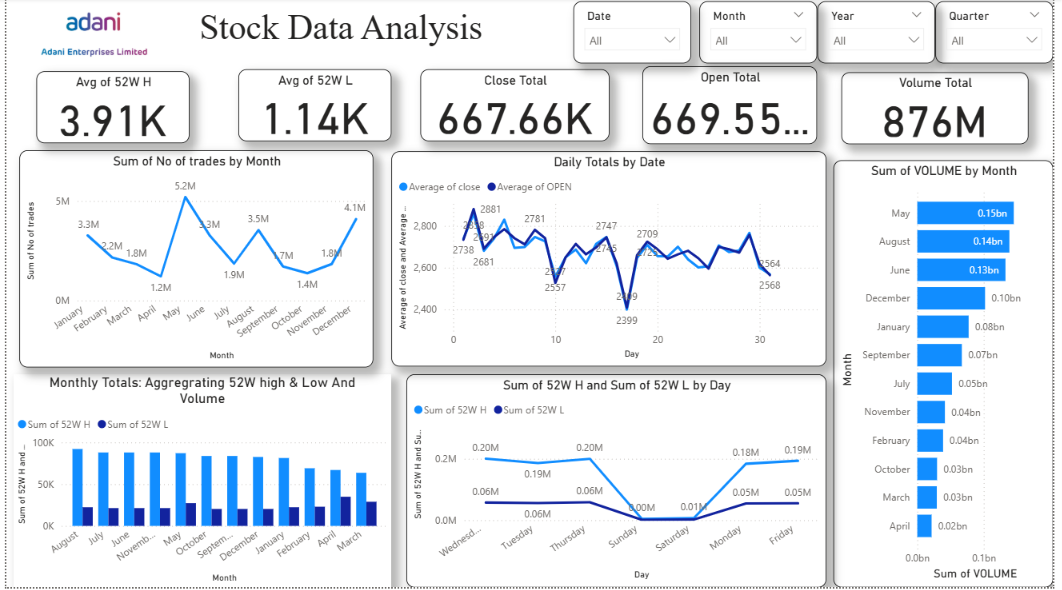

What the dashboard file says about the page in this screenshot:
{"tool":"powerbi","page":{"name":"Page 1","canvas":[1280,720],"ordinal":0},"visuals":[{"type":"slicer","fields":{"Values":["ADANI ENTERPRISES LIMITED.Date "]},"box":[693.3,3.7,144.3,75.8],"z":0},{"type":"slicer","fields":{"Values":["ADANI ENTERPRISES LIMITED.Month"]},"box":[847.4,3.7,144.3,75.8],"z":1000},{"type":"slicer","fields":{"Values":["ADANI ENTERPRISES LIMITED.Year"]},"box":[991.7,3.7,144.3,75.8],"z":2000},{"type":"slicer","fields":{"Values":["ADANI ENTERPRISES LIMITED.Quarter"]},"box":[1136,3.7,144.3,75.8],"z":3000},{"type":"card","title":"Avg of 52W H","fields":{"Values":["Avg(ADANI ENTERPRISES LIMITED.52W H )"]},"box":[36.7,89.3,187.1,88],"z":4000},{"type":"card","title":"Avg of 52W L","fields":{"Values":["Avg(ADANI ENTERPRISES LIMITED.52W L )"]},"box":[283.7,86.8,187.1,88],"z":5000},{"type":"card","title":"Close Total","fields":{"Values":["Sum(ADANI ENTERPRISES LIMITED.close )"]},"box":[506.3,86.8,231.1,88],"z":6000},{"type":"card","title":"Open Total","fields":{"Values":["Sum(ADANI ENTERPRISES LIMITED.OPEN )"]},"box":[777.7,83.2,214,95.4],"z":7000},{"type":"card","title":"Volume Total","fields":{"Values":["Sum(ADANI ENTERPRISES LIMITED.VOLUME )"]},"box":[1021.1,90.5,228.7,88],"z":8000},{"type":"clusteredColumnChart","title":"Monthly Totals: Aggregrating 52W high & Low And Volume","fields":{"Y":["Sum(ADANI ENTERPRISES LIMITED.52W H )","Sum(ADANI ENTERPRISES LIMITED.52W L )"],"Category":["ADANI ENTERPRISES LIMITED.Month"]},"box":[8.6,459.8,462.2,260.5],"z":10000},{"type":"lineChart","title":"Daily Totals by Date","fields":{"Category":["ADANI ENTERPRISES LIMITED.Date .Variation.Date Hierarchy.Day"],"Y":["Avg(ADANI ENTERPRISES LIMITED.close )","Avg(ADANI ENTERPRISES LIMITED.OPEN )"]},"box":[470.8,187.1,531.9,262.9],"z":11000},{"type":"lineChart","fields":{"Y":["Sum(ADANI ENTERPRISES LIMITED.52W H )","Sum(ADANI ENTERPRISES LIMITED.52W L )"],"Category":["ADANI ENTERPRISES LIMITED.Day"]},"box":[489.1,459.8,513.6,260.5],"z":12000},{"type":"clusteredBarChart","fields":{"Category":["ADANI ENTERPRISES LIMITED.Month"],"Y":["Sum(ADANI ENTERPRISES LIMITED.VOLUME )"]},"box":[1011.3,198.1,269,522.1],"z":13000},{"type":"image","box":[36.7,0,141.8,86.8],"z":14000},{"type":"textbox","box":[231.1,6.1,382.7,70.9],"z":15000},{"type":"lineChart","fields":{"Category":["ADANI ENTERPRISES LIMITED.Date .Variation.Date Hierarchy.Month","ADANI ENTERPRISES LIMITED.Date .Variation.Date Hierarchy.Day"],"Y":["Sum(ADANI ENTERPRISES LIMITED.No of trades )","select"]},"box":[15.7,185.7,432.9,265.7],"z":15001}]}

Visuals, with their boxes in screenshot pixels (x1, y1, x2, y2), scaled from the page's 1280x720 canvas onto the 1062x590 screenshot:
slicer - ADANI ENTERPRISES LIMITED.Date : Rect(575, 3, 695, 65)
slicer - ADANI ENTERPRISES LIMITED.Month: Rect(703, 3, 823, 65)
slicer - ADANI ENTERPRISES LIMITED.Year: Rect(823, 3, 943, 65)
slicer - ADANI ENTERPRISES LIMITED.Quarter: Rect(943, 3, 1061, 65)
"Avg of 52W H" card: Rect(30, 73, 186, 145)
"Avg of 52W L" card: Rect(235, 71, 391, 143)
"Close Total" card: Rect(420, 71, 612, 143)
"Open Total" card: Rect(645, 68, 823, 146)
"Volume Total" card: Rect(847, 74, 1037, 146)
"Monthly Totals: Aggregrating 52W high & Low And Volume" clusteredColumnChart: Rect(7, 377, 391, 589)
"Daily Totals by Date" lineChart: Rect(391, 153, 832, 369)
lineChart - Sum(ADANI ENTERPRISES LIMITED.52W H ) x Sum(ADANI ENTERPRISES LIMITED.52W L ): Rect(406, 377, 832, 589)
clusteredBarChart - ADANI ENTERPRISES LIMITED.Month x Sum(ADANI ENTERPRISES LIMITED.VOLUME ): Rect(839, 162, 1061, 589)
image: Rect(30, 0, 148, 71)
textbox: Rect(192, 5, 509, 63)
lineChart - ADANI ENTERPRISES LIMITED.Date .Variation.Date Hierarchy.Month x ADANI ENTERPRISES LIMITED.Date .Variation.Date Hierarchy.Day: Rect(13, 152, 372, 370)
